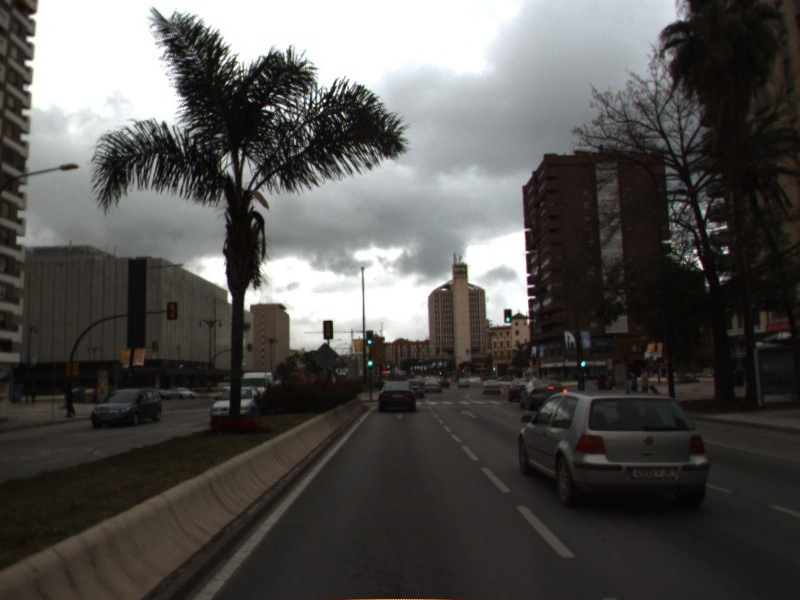STRAIGHT: (458, 408, 480, 421)
